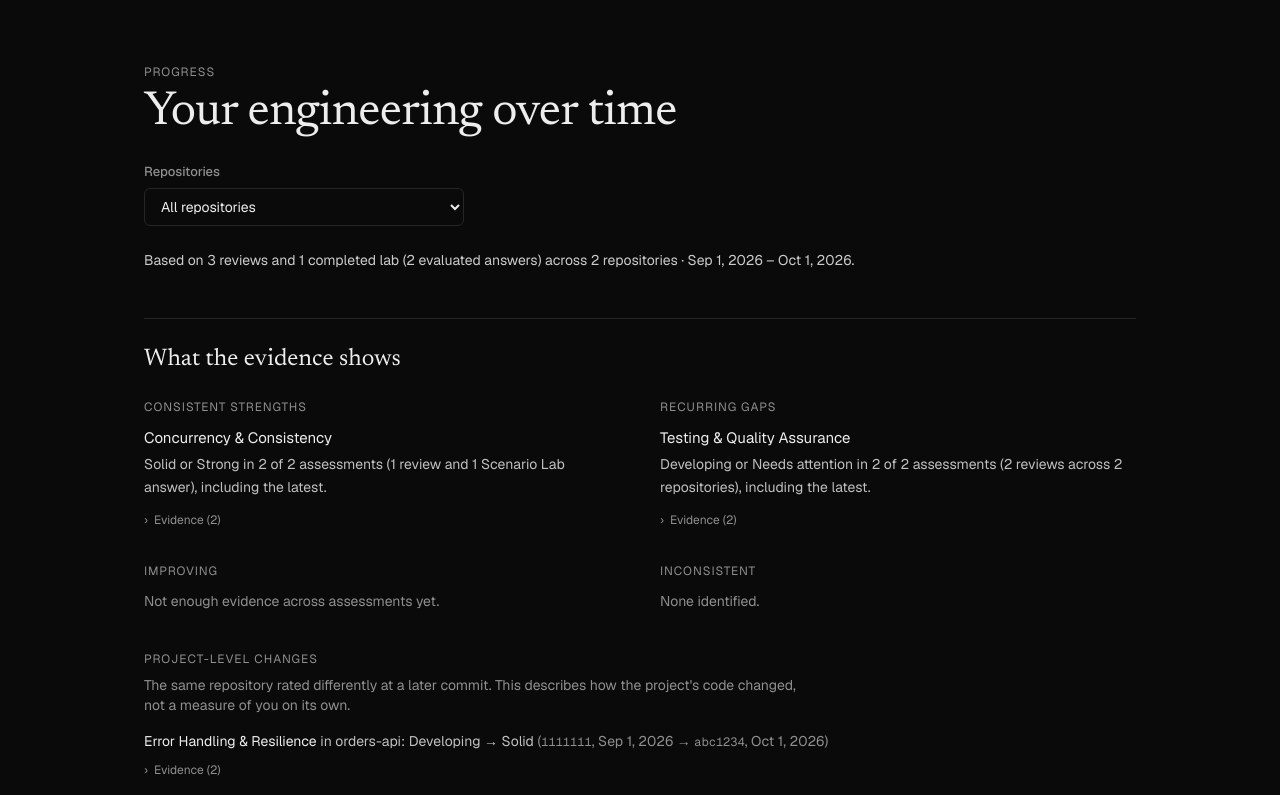
Test: each indicator shows its reason and expands to the evidence behind it, with links
Check: the text "Concurrency & Consistency" is shown, box [144,428,332,447]
Check: the text "Solid or Strong in 2 of 2 assessments" is shown, box [144,455,565,496]
Click the heading "› Evidence (2)" below "Consistent strengths" at (182, 520), box [144,512,221,528]
(page scrolled)
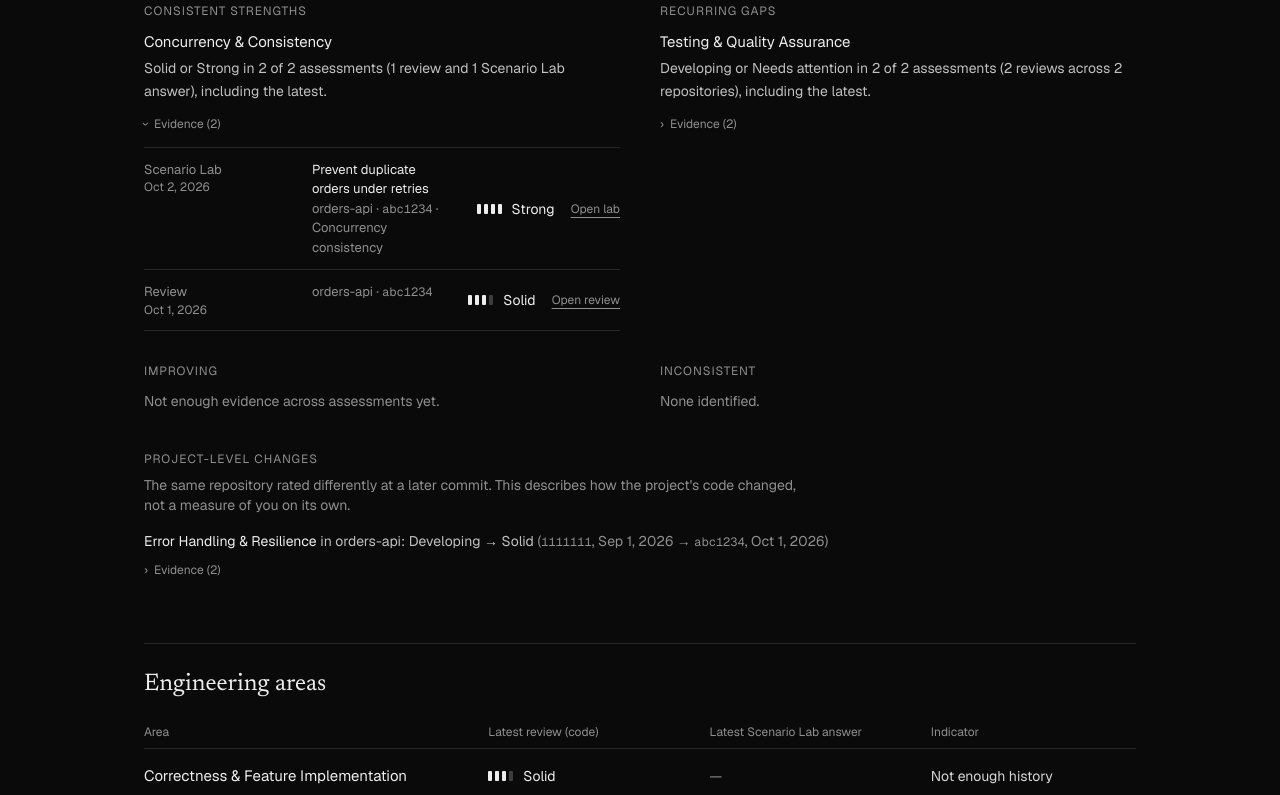
Check: the list item that starts with "Scenario Lab" is shown, box [144,161,222,178]
Check: the list item that starts with "Scenario Lab" shows "Prevent duplicate orders under retries", box [312,161,429,197]
Check: the list item that starts with "Scenario Lab" shows "orders-api · abc1234 · Concurrency consistency", box [144,148,620,270]
